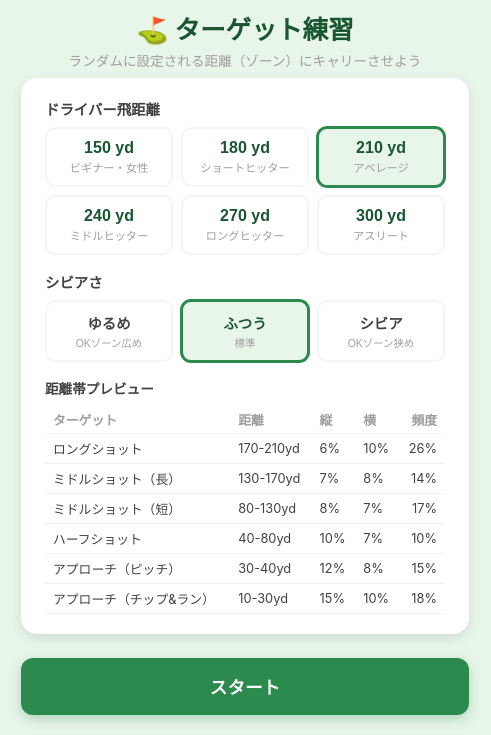
Test: App › 距離がyd単位で表示される
Click the button with test id "next-button": click(245, 686) left=21, top=658, right=469, bottom=715
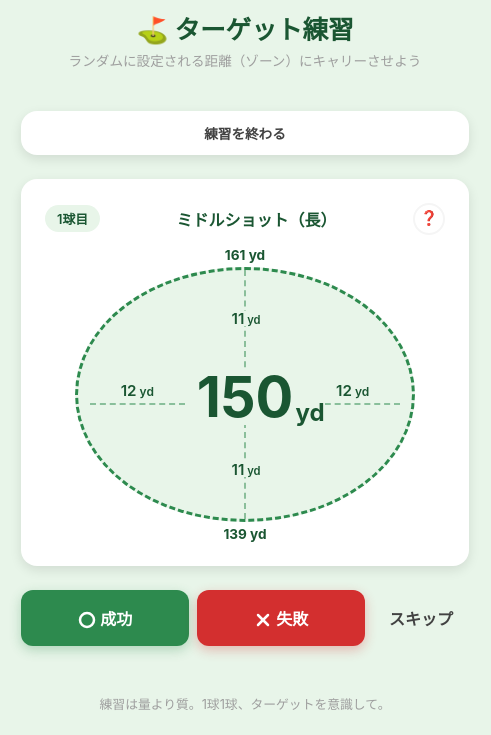
Expected: the text with test id "target-depth" shows "yd", left=245, top=246, right=265, bottom=262
